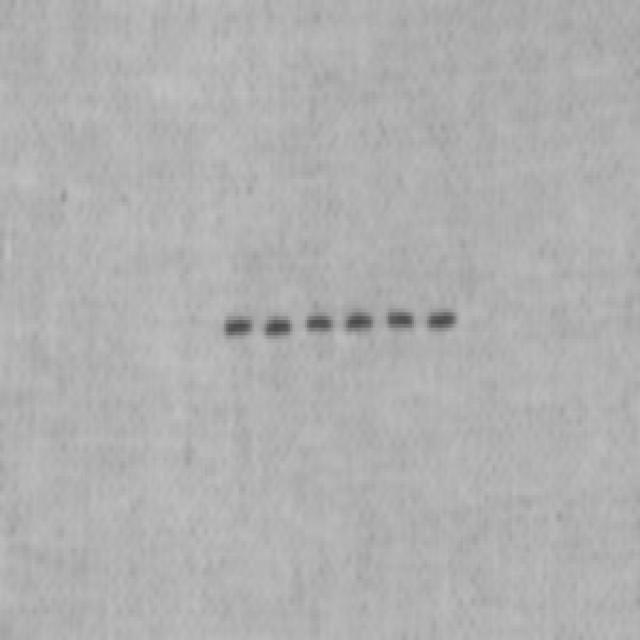stitch: (426, 308, 458, 330), (305, 312, 334, 333), (264, 315, 291, 337), (224, 317, 252, 337), (345, 310, 372, 330), (386, 310, 414, 328)
